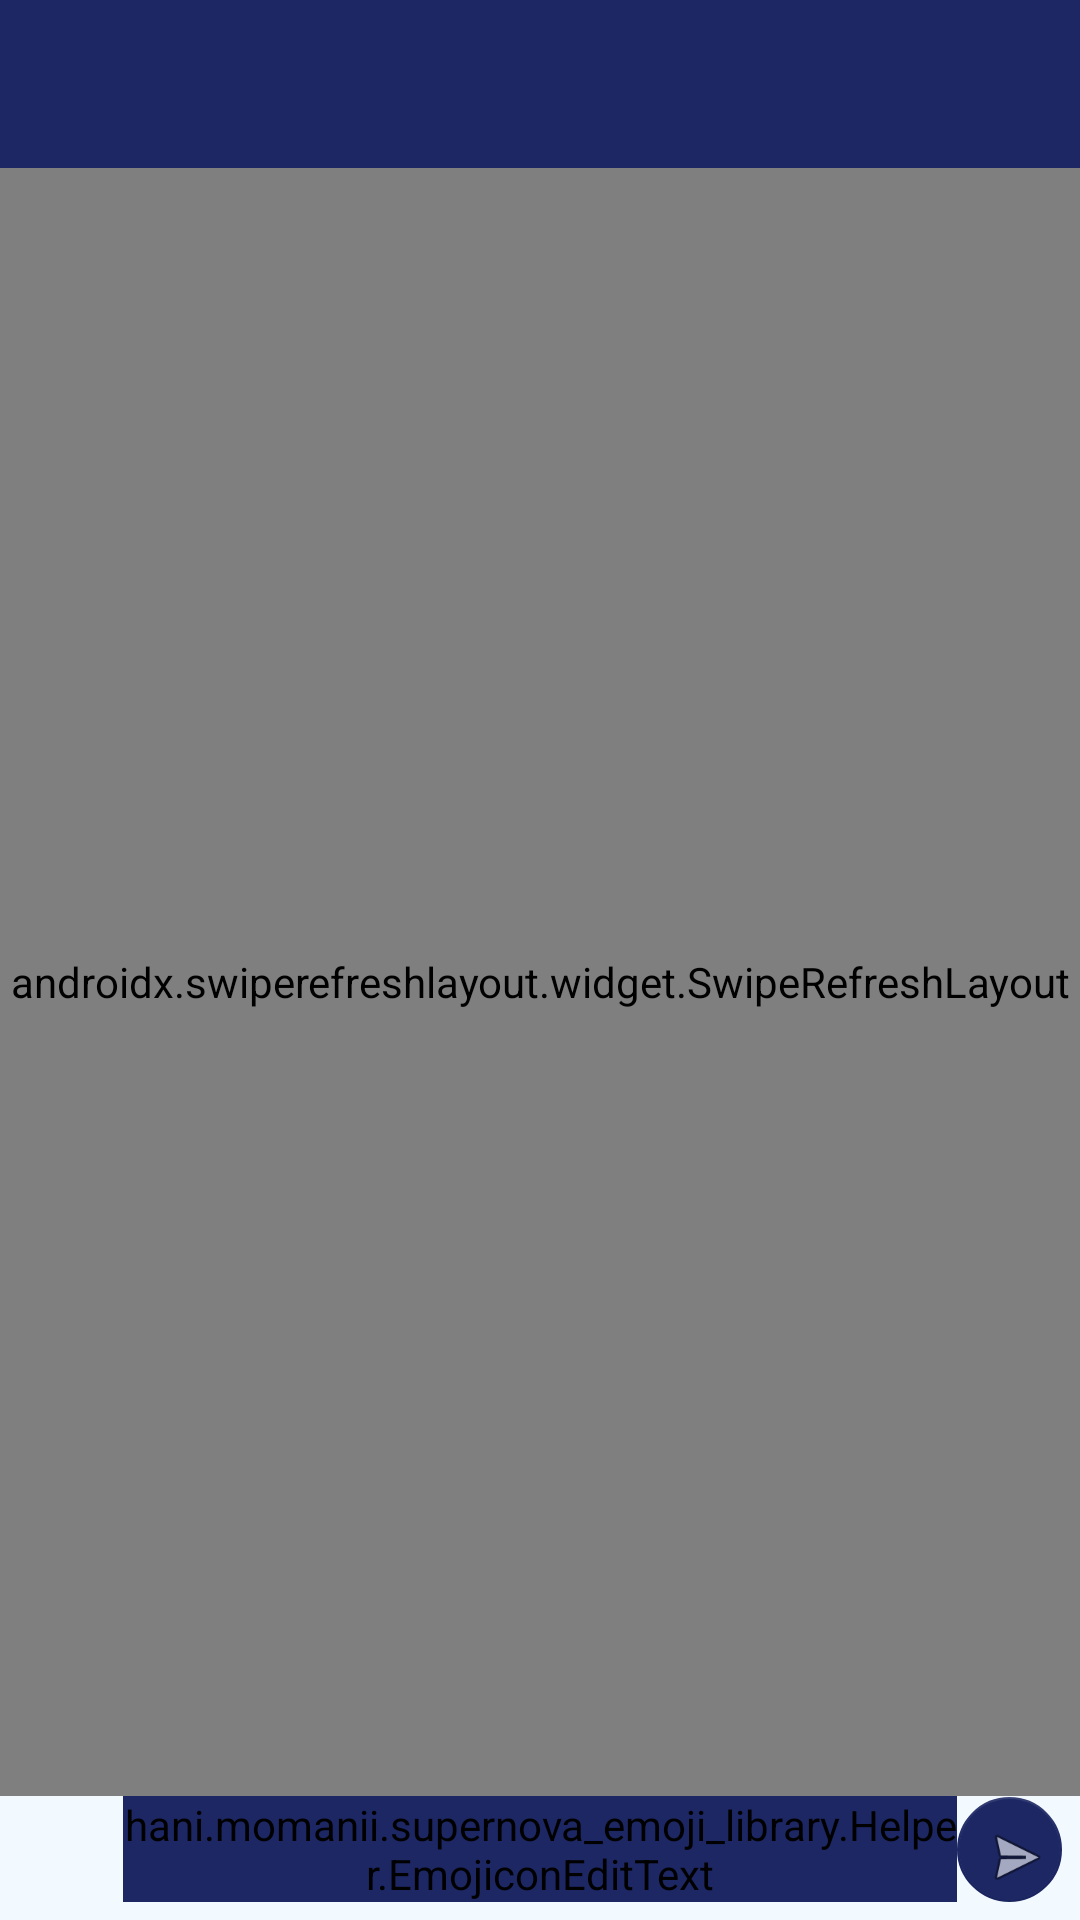

Point at icon controls on the screen. Image size 1080*1920, points as (x=x, y=y).
send: (x=1009, y=1849)
